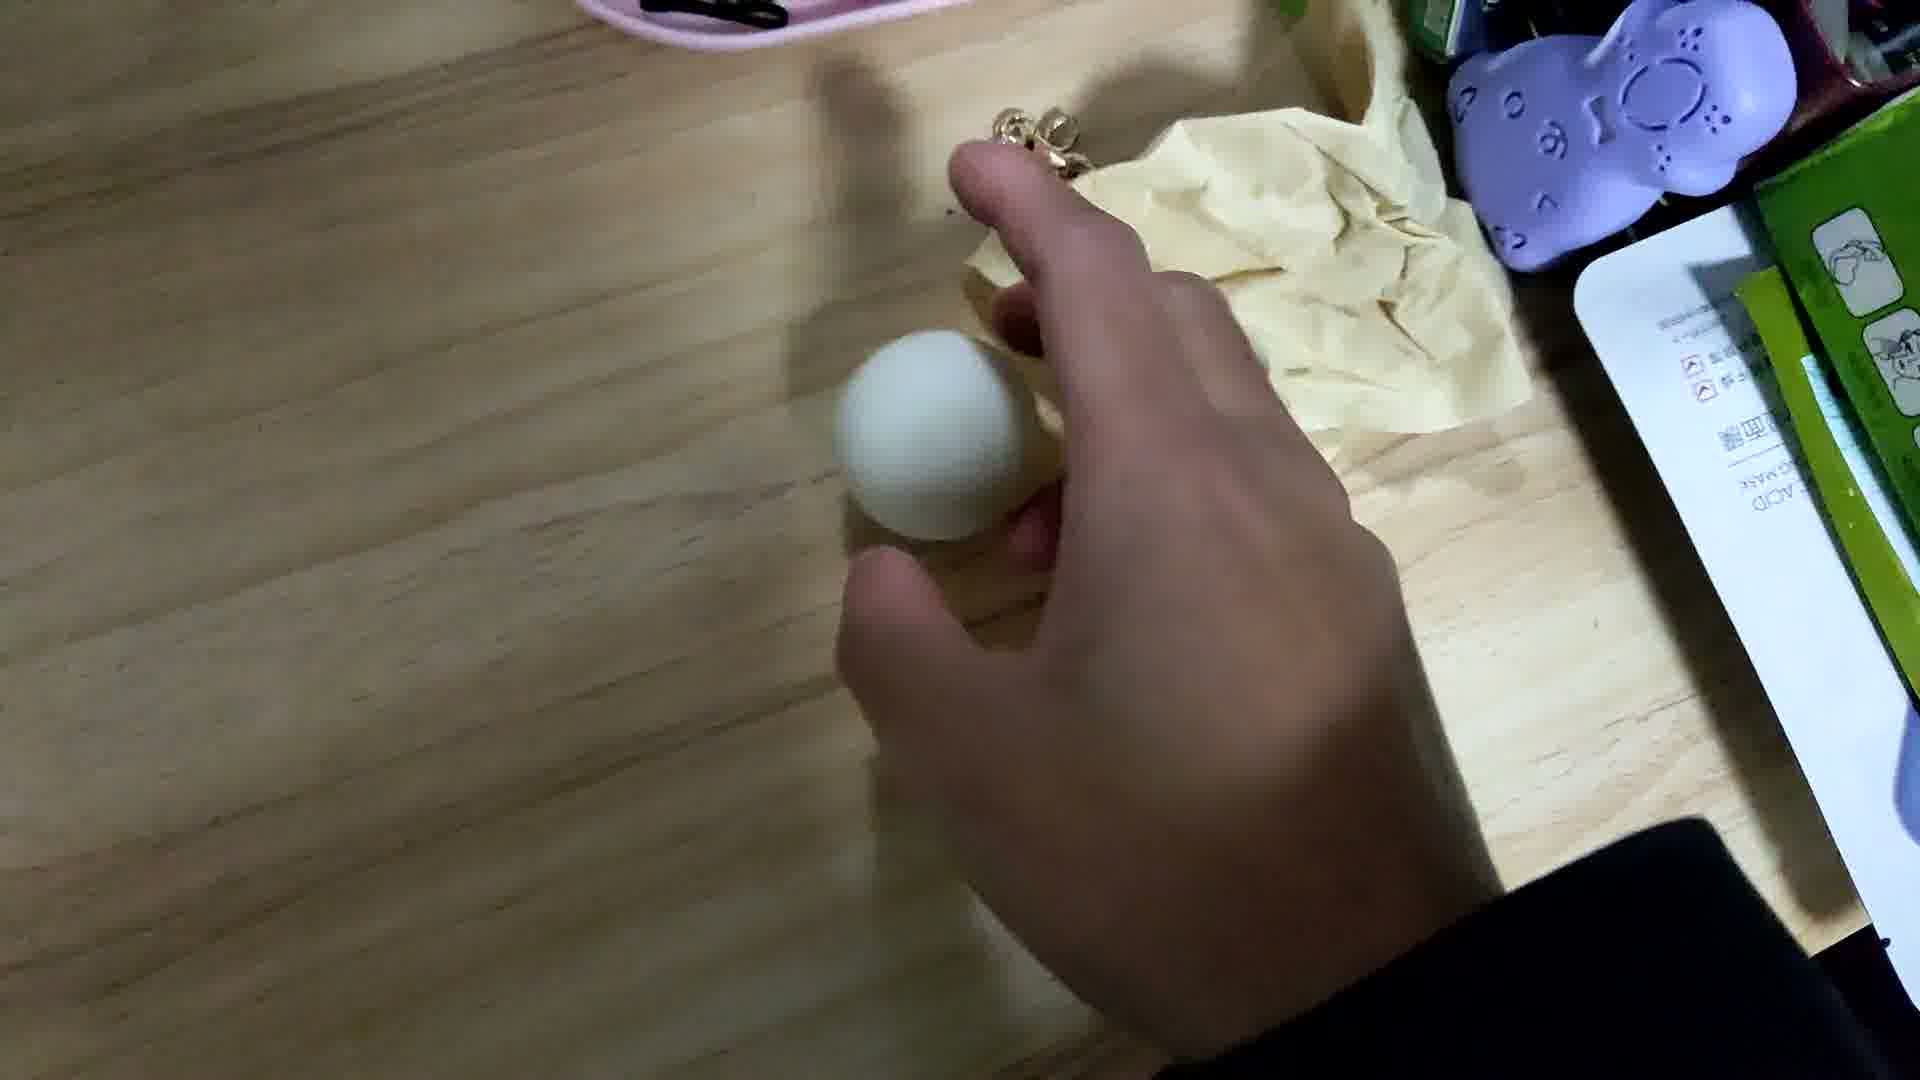Ball: (841, 328, 1048, 550)
